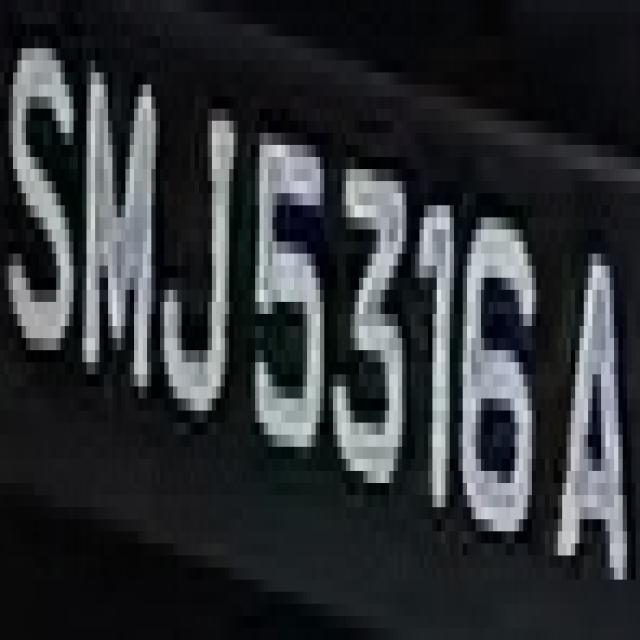1: (411, 120, 467, 568)
3: (320, 109, 406, 507)
5: (246, 73, 338, 495)
6: (446, 121, 536, 604)
A: (549, 145, 627, 628)
J: (152, 85, 234, 422)
M: (74, 36, 164, 411)
S: (0, 12, 82, 386)
